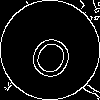O: (25, 25, 81, 83)
